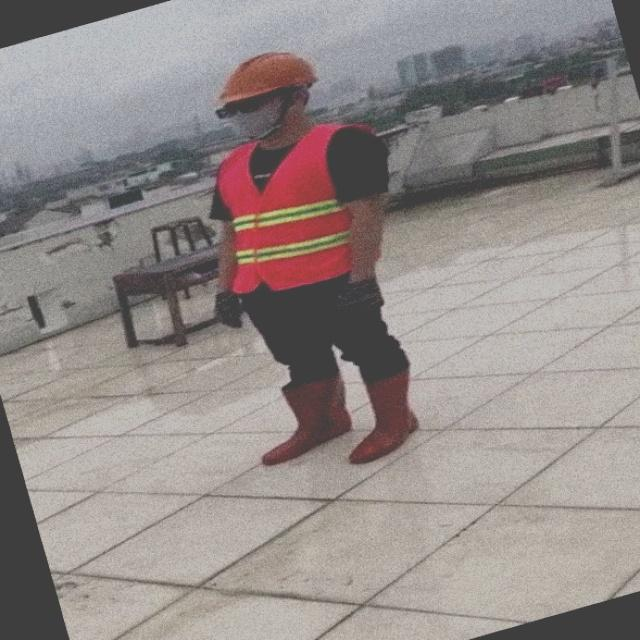Capacete: (216, 52, 316, 104)
Colete: (216, 124, 372, 293)
Oculos: (215, 95, 277, 118)
Pessoa: (210, 52, 417, 464)
